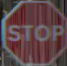Stop: (1, 3, 65, 59)
